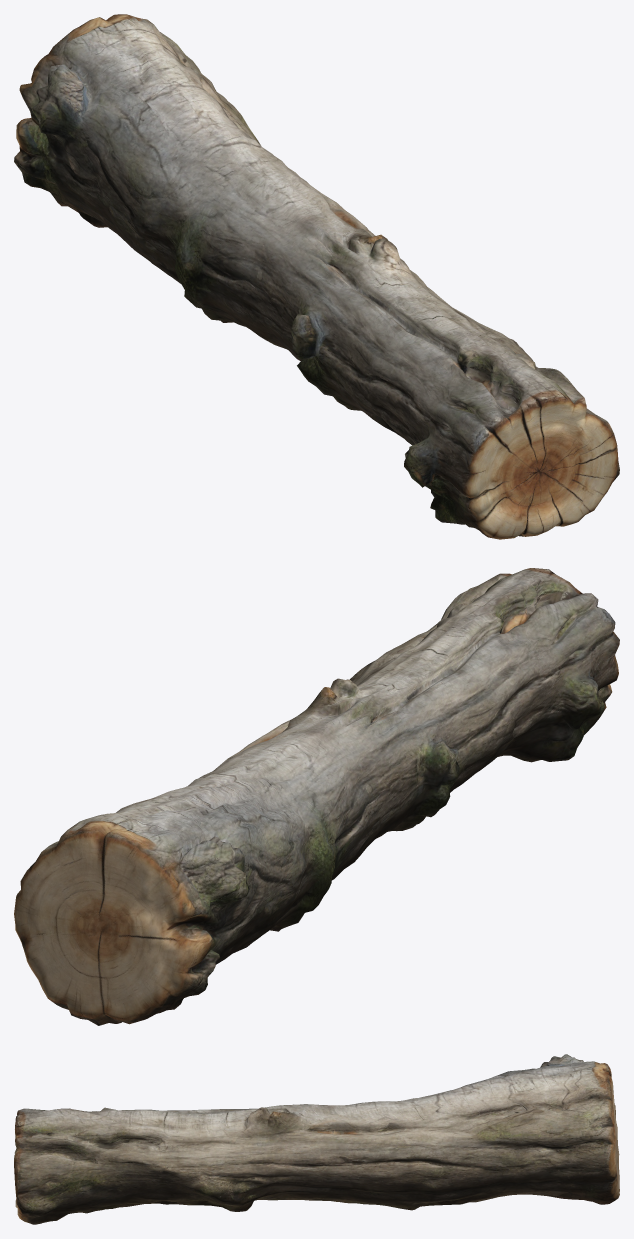
File: tronco.glb
3 renders of one model, top to bottom at view 1: azimuth 30°, elevation 25°; view 2: azimuth 150°, elevation 25°; view 3: azimuth 270°, elevation 25°, orthographic. The views are drawn at different scales.
Bounding box in the file's own units: 0.4959 × 0.5318 × 2.
Materials: 1 (1 with a texture image).
